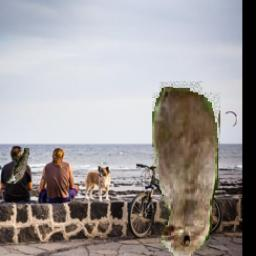Cuckoo: (6, 148, 29, 184)
Sparrow: (153, 48, 221, 256)
